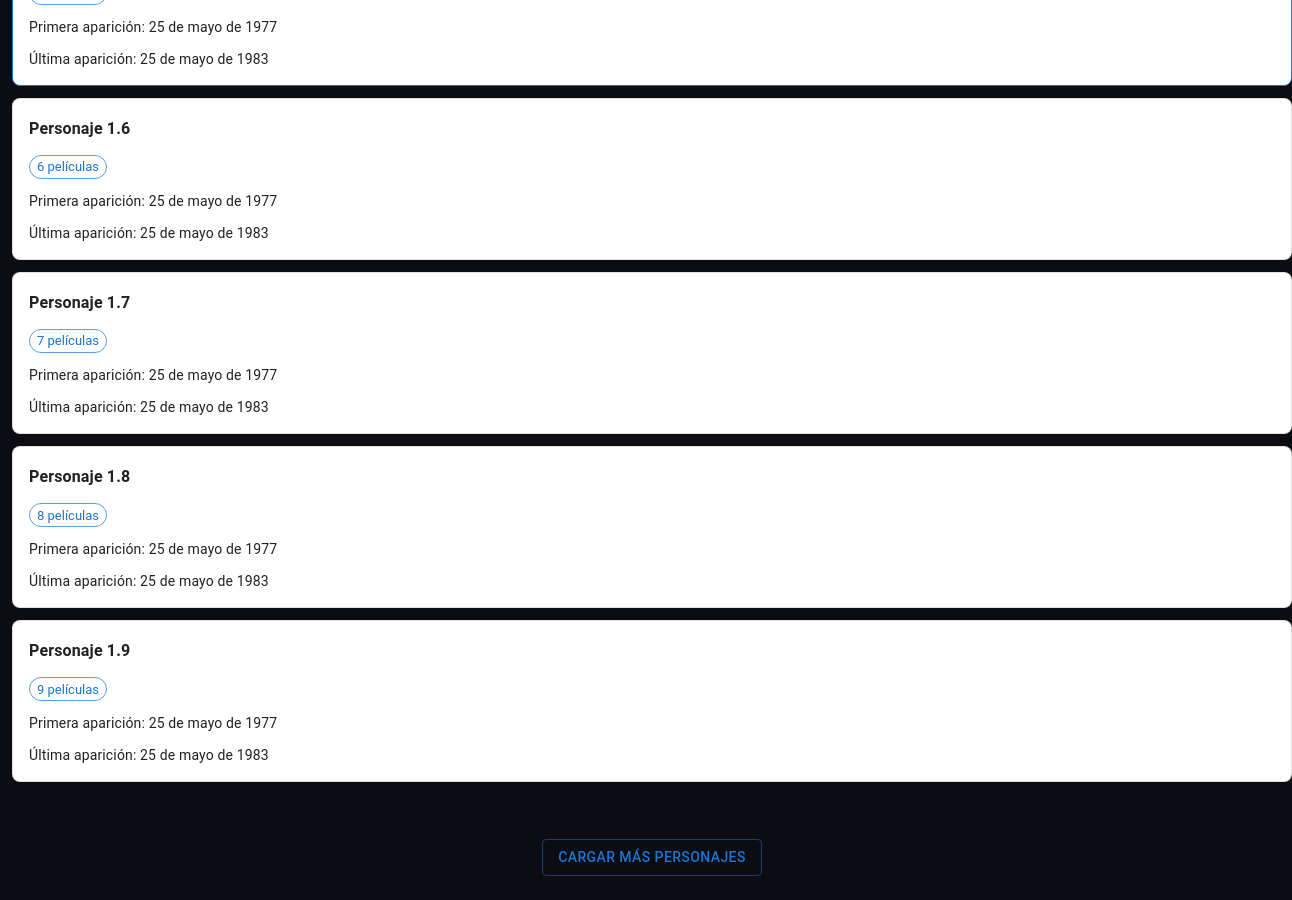
Test: TarjetasPersonajes › el boton anade la pagina siguiente debajo, sin quitar la anterior
The image size is (1292, 900).
(page scrolled)
Step 1. Click the button "Cargar más personajes" → (652, 858), box x1=542 y1=839 x2=762 y2=876
(page scrolled)
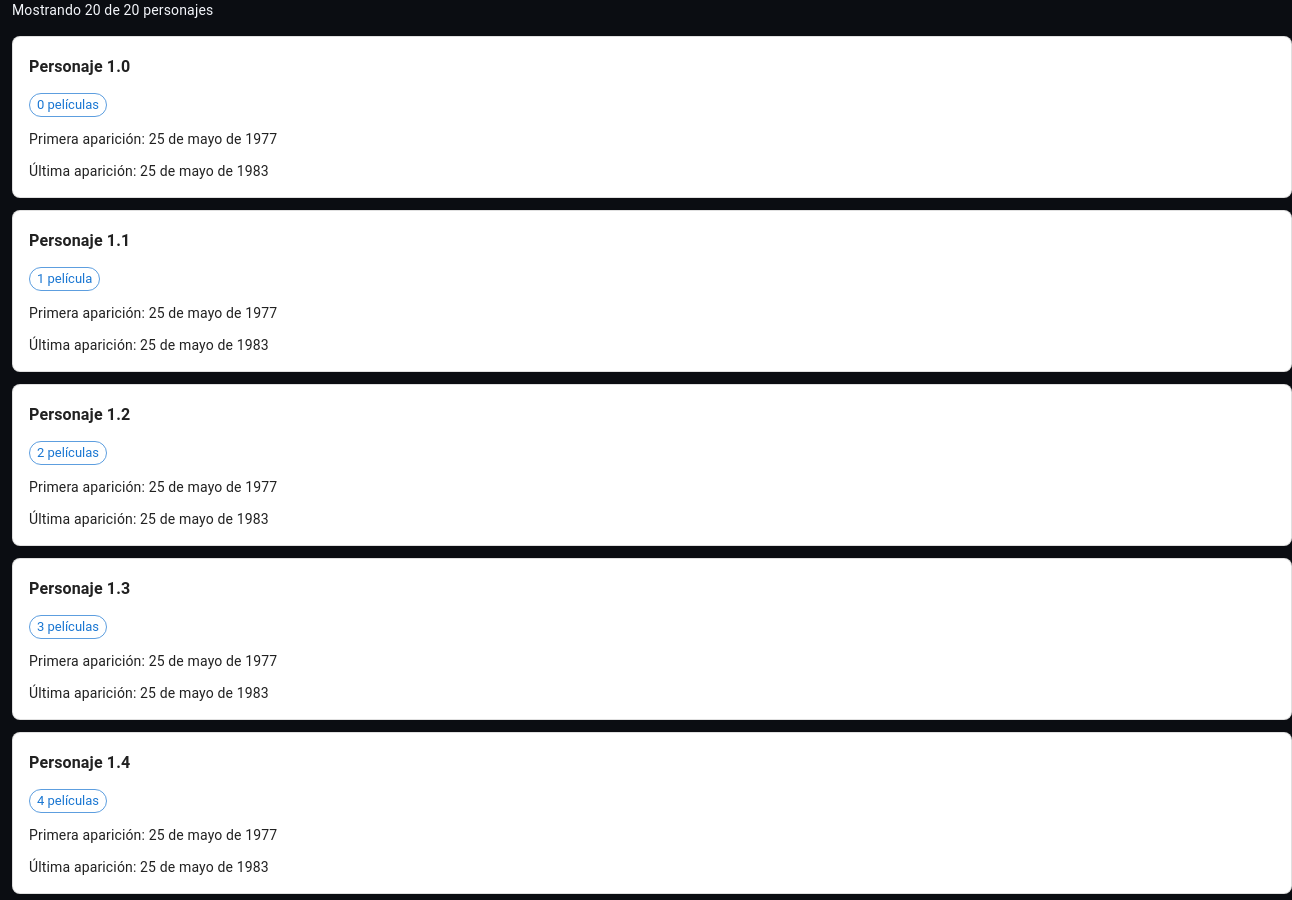
Expected: the link "Personaje 1.0" is shown, x1=29 y1=57 x2=130 y2=76
Expected: the text "Mostrando 20 de 20 personajes" is shown, x1=12 y1=2 x2=213 y2=18
